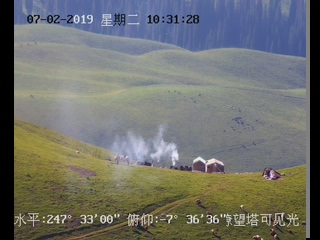smoke: (113, 127, 181, 166)
